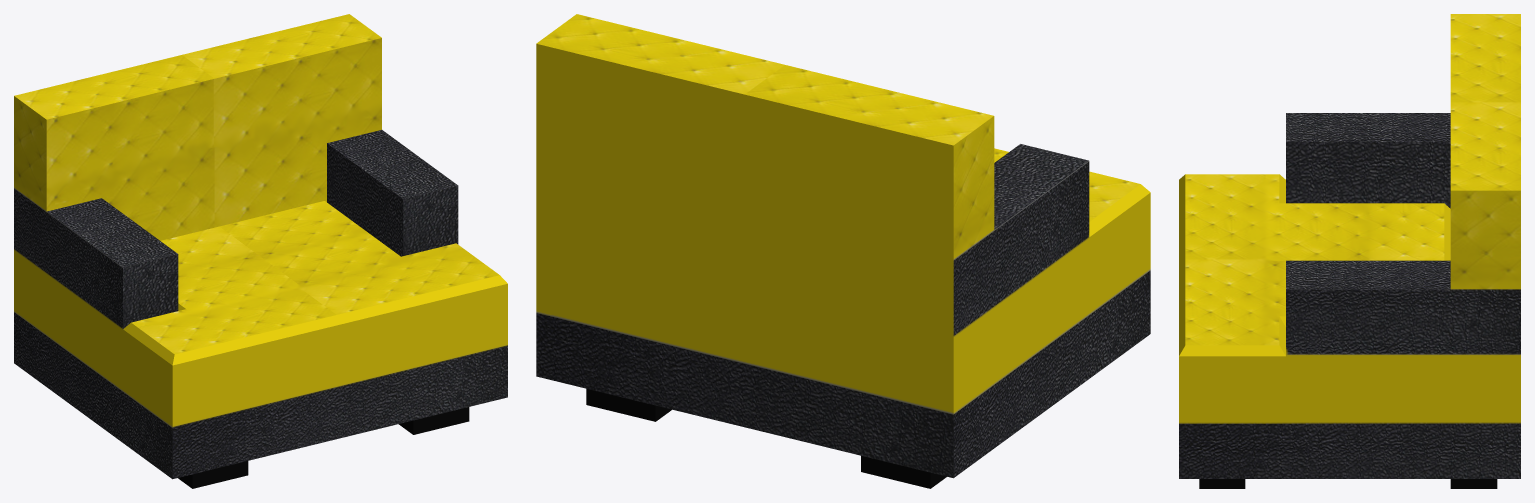
File: sofachair.FBX
3 renders of one model, left to right at view 1: azimuth 30°, elevation 25°; view 2: azimuth 150°, elevation 25°; view 3: azimuth 270°, elevation 25°, orthographic. The views are drawn at different scales.
Parts seen in each view (by area): view 1: Box001; view 2: Box001; view 3: Box001.
Part boxes in pixels (<box>): Box001: <box>14,14,507,488</box>; Box001: <box>536,14,1150,488</box>; Box001: <box>1179,14,1520,488</box>.
Size of the model in its own units: 88.11 by 73.08 by 72.11.
